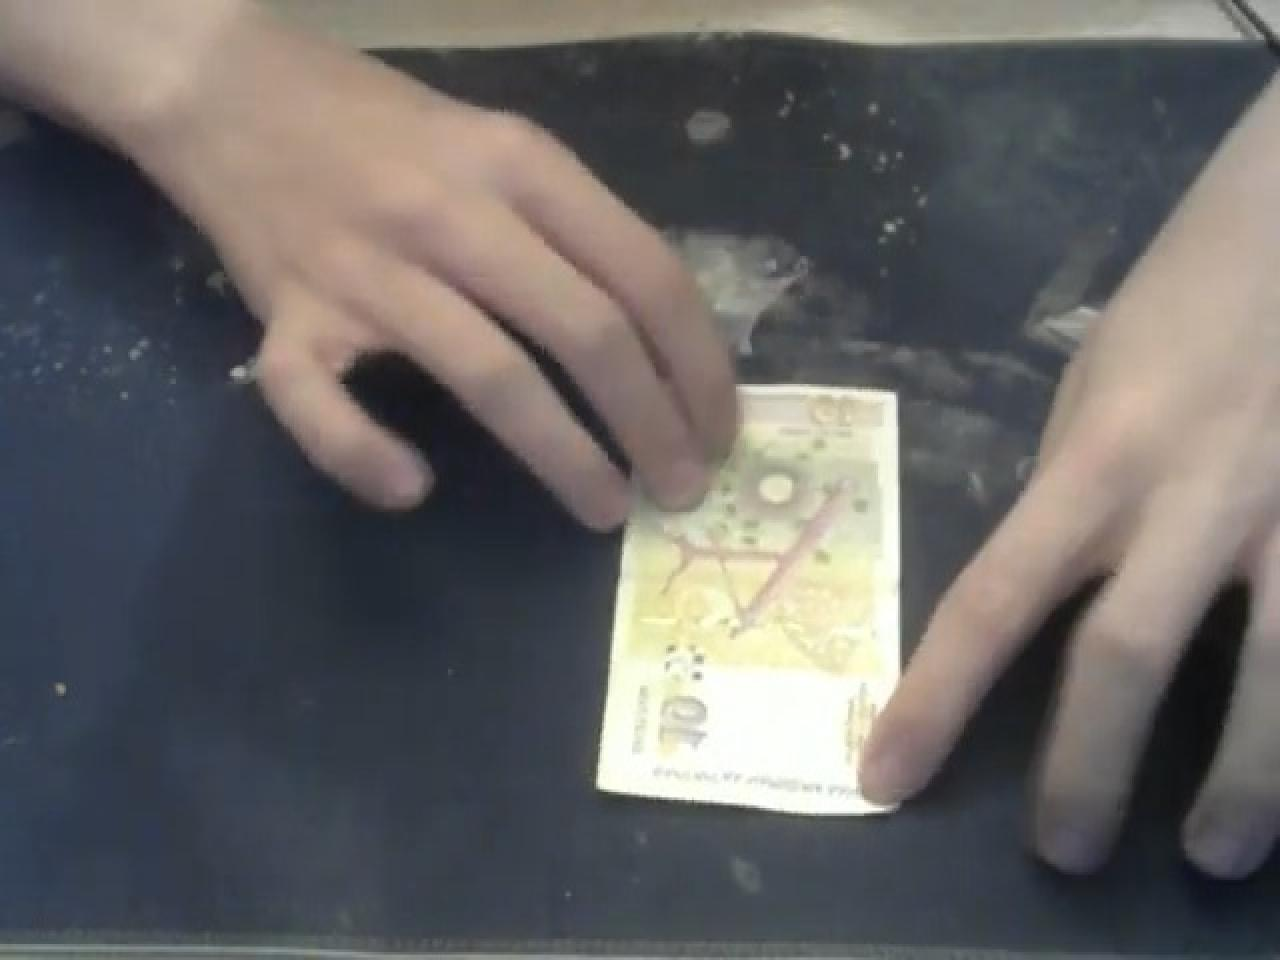10leva: (637, 655, 726, 768), (801, 392, 880, 440)
